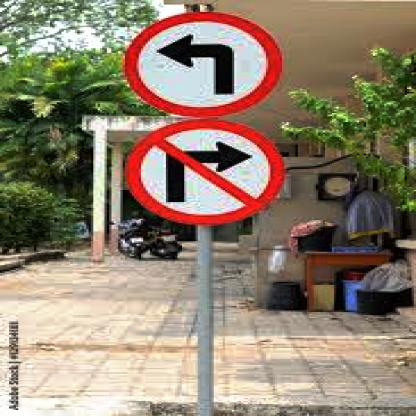No right turn: (127, 120, 277, 223)
